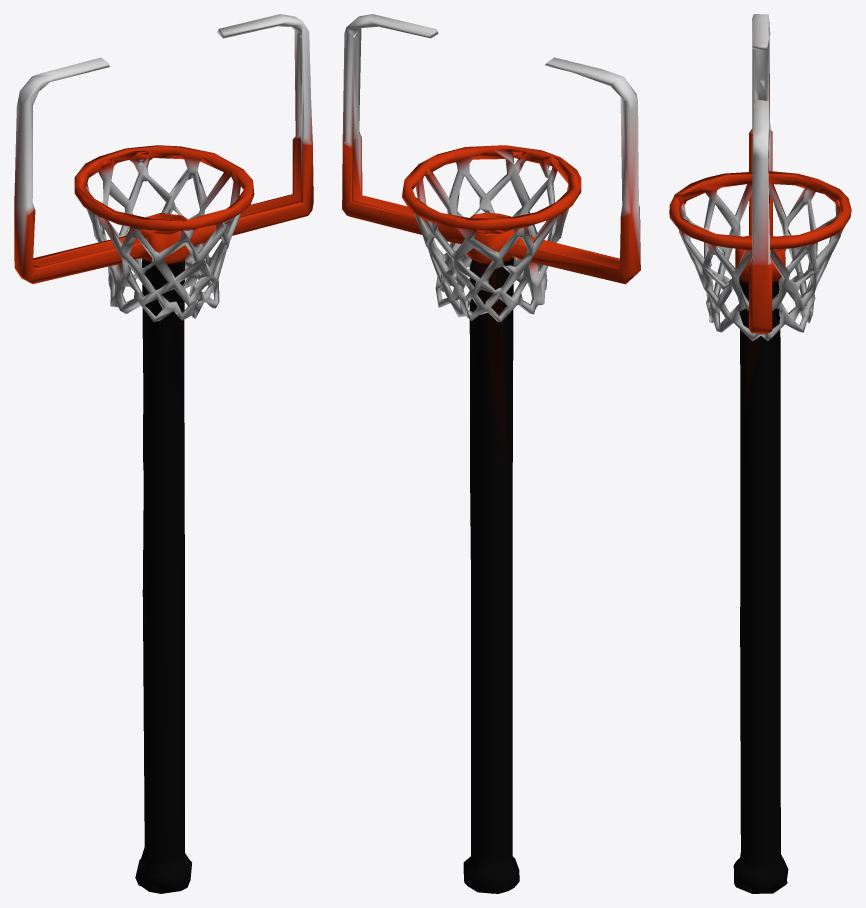
File: gen3d-basketball-hoop-lod1.glb
The picture shows the model from 3 angles, left to right: view 1: azimuth 30°, elevation 25°; view 2: azimuth 150°, elevation 25°; view 3: azimuth 270°, elevation 25°; orthographic projection. The views are drawn at different scales.
Visible parts, largest first — view 1: part_0; view 2: part_0; view 3: part_0.
Part boxes in pixels (box(x1,y1,x2,y2)): part_0: box(14, 14, 313, 893); part_0: box(342, 14, 640, 893); part_0: box(669, 14, 851, 893).
Bounding box in the file's own units: 0.363 × 0.9998 × 0.2033.
